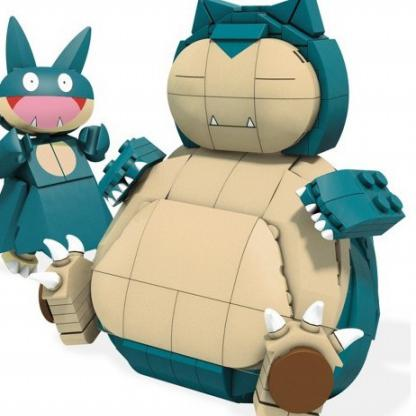Snorlax: (90, 1, 413, 405)
